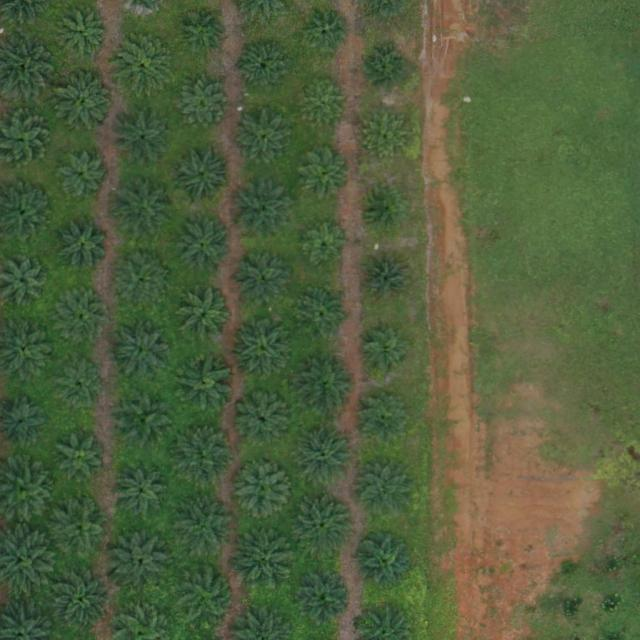Healthy: (115, 34, 178, 97), (294, 355, 357, 418), (170, 74, 233, 137), (170, 143, 233, 206), (54, 70, 117, 133), (232, 529, 295, 592), (292, 494, 355, 557), (354, 531, 417, 594), (230, 180, 292, 243), (232, 317, 294, 380), (112, 106, 174, 169), (110, 320, 173, 382), (49, 497, 111, 560), (114, 389, 176, 452), (110, 527, 172, 590), (173, 422, 235, 485), (176, 498, 238, 561), (178, 565, 240, 628), (233, 459, 295, 522), (297, 425, 359, 488), (173, 353, 235, 415), (114, 178, 176, 240), (239, 41, 294, 97), (237, 394, 292, 450), (298, 288, 353, 343), (236, 113, 291, 168), (236, 253, 291, 308), (115, 258, 170, 313), (56, 151, 111, 206), (115, 466, 170, 521), (296, 572, 351, 627), (176, 221, 230, 276), (178, 290, 232, 345), (56, 573, 110, 628), (358, 391, 412, 446), (358, 463, 412, 518), (62, 224, 109, 272), (61, 293, 108, 341), (61, 10, 108, 57), (299, 80, 346, 127), (56, 366, 103, 413), (59, 433, 106, 480)
Small: (176, 4, 231, 59), (360, 253, 415, 308), (358, 328, 413, 383), (296, 146, 350, 201), (304, 11, 351, 58), (303, 224, 350, 271), (361, 112, 408, 159), (365, 45, 412, 92), (363, 189, 403, 229)
